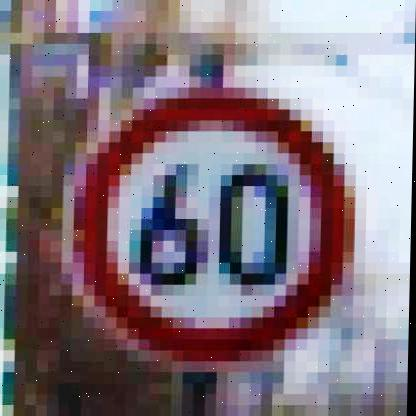Speed Limit -60-: (59, 85, 364, 367)
